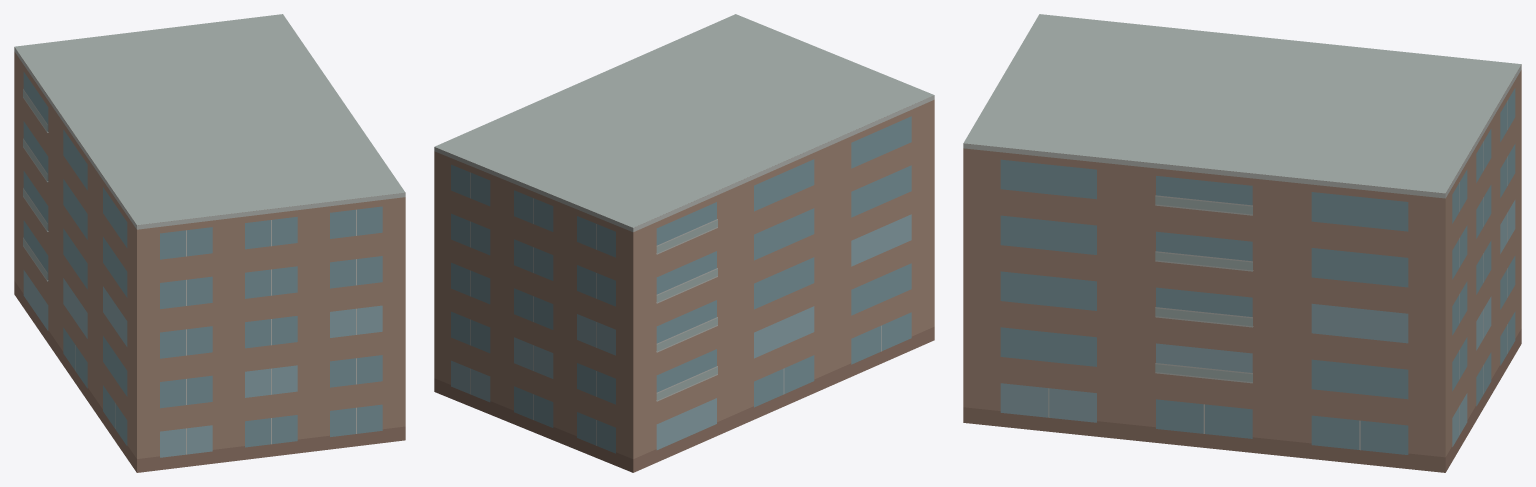
File: survey-upis-32872335.glb
The picture shows the model from 3 angles, left to right: view 1: azimuth 30°, elevation 25°; view 2: azimuth 150°, elevation 25°; view 3: azimuth 270°, elevation 25°; orthographic projection. The views are drawn at different scales.
Parts seen in each view (by area): view 1: survey-upis-32872335.tmp; view 2: survey-upis-32872335.tmp; view 3: survey-upis-32872335.tmp.
Boxes of the visible parts, x1,y1,x2,y2 form: survey-upis-32872335.tmp: [14, 14, 405, 472]; survey-upis-32872335.tmp: [434, 14, 934, 472]; survey-upis-32872335.tmp: [963, 14, 1521, 472].
Bounding box in the file's own units: 18.67 × 13.55 × 24.55.
